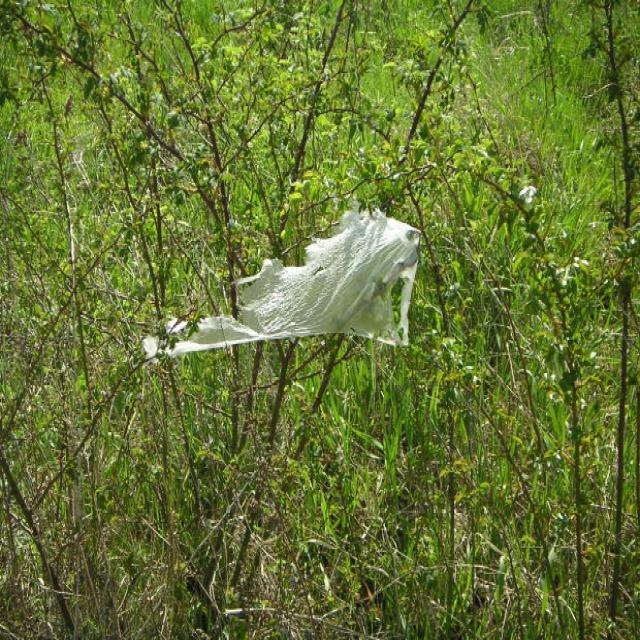trash: (161, 212, 422, 356)
